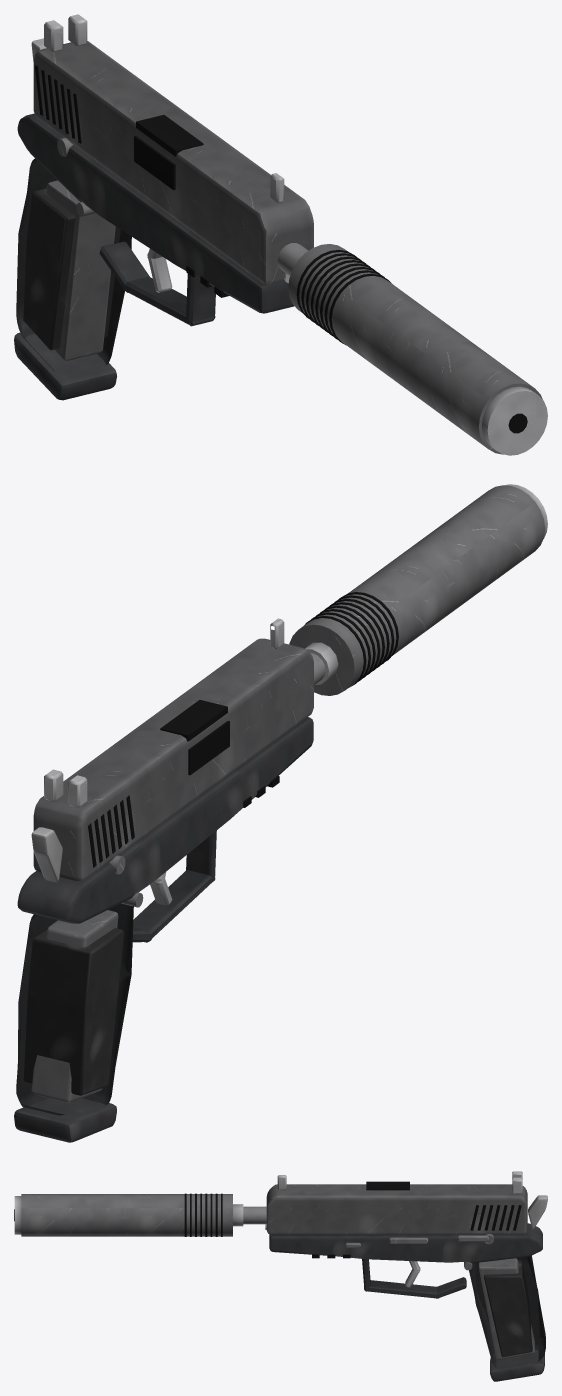
Rendered from ghost.glb.
3 views of the same model, one above another, from view 1: azimuth 30°, elevation 25°; view 2: azimuth 150°, elevation 25°; view 3: azimuth 270°, elevation 25° (orthographic). The views are drawn at different scales.
Parts seen in each view (by area): view 1: body, mag; view 2: body, mag; view 3: body, mag.
Part boxes in pixels (x1=…): body: x1=16, y1=14, x2=547, y2=455; mag: x1=14, y1=180, x2=116, y2=400; body: x1=16, y1=484, x2=547, y2=1115; mag: x1=14, y1=910, x2=118, y2=1142; body: x1=14, y1=1171, x2=547, y2=1368; mag: x1=479, y1=1258, x2=544, y2=1381.
Size of the model in its own units: 0.0338 by 0.1705 by 0.4133.
Materials: 6 (4 with a texture image).
